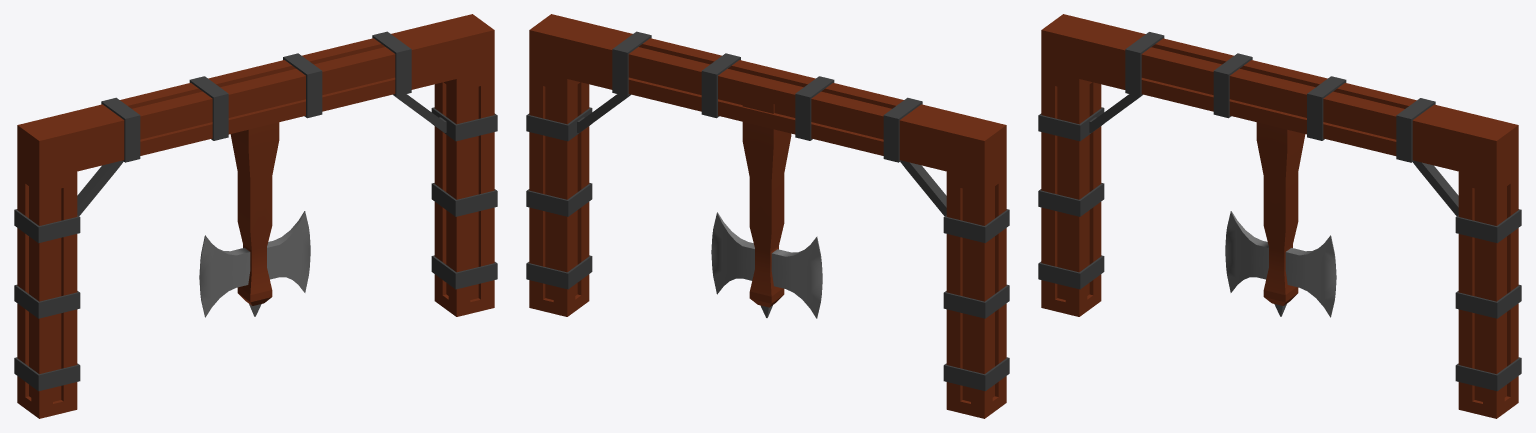
File: Swinging Axe Trap.FBX
3 renders of one model, left to right at view 1: azimuth 30°, elevation 25°; view 2: azimuth 150°, elevation 25°; view 3: azimuth 330°, elevation 25°, orthographic.
Visible parts, largest first — view 1: Frame, AxePole; view 2: Frame, AxePole; view 3: Frame, AxePole.
Boxes of the visible parts, bbox=[...] form: Frame: bbox=[14, 14, 497, 418]; AxePole: bbox=[199, 122, 310, 317]; Frame: bbox=[526, 14, 1009, 418]; AxePole: bbox=[711, 96, 822, 318]; Frame: bbox=[1038, 14, 1521, 418]; AxePole: bbox=[1225, 122, 1336, 317].
Size of the model in its own units: 6.05 by 3.53 by 0.55.
